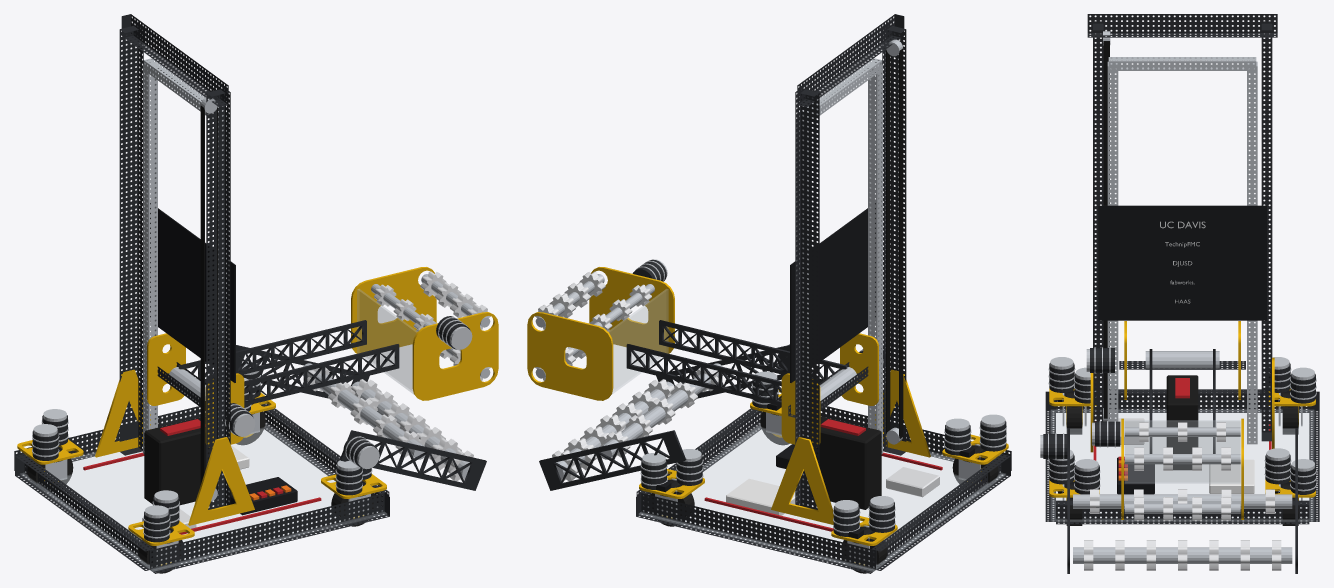
3 renders of one model, left to right at view 1: azimuth 30°, elevation 25°; view 2: azimuth 150°, elevation 25°; view 3: azimuth 270°, elevation 25°, orthographic. The views are drawn at different scales.
Visible parts, largest first — view 1: body.dark_tube, body.polycarb, grab.yellow_anodized, body.black, body.yellow_anodized, stage.aluminum_tube, boom.dark_frame, body.dark_frame, body.battery, body.white_wheel, body.aluminum, body.kraken (+9 smaller); view 2: body.dark_tube, body.polycarb, grab.yellow_anodized, body.black, stage.aluminum_tube, body.yellow_anodized, boom.dark_frame, body.battery, body.dark_frame, body.belt, body.kraken, body.aluminum (+12 smaller); view 3: body.black, body.dark_tube, body.polycarb, stage.aluminum_tube, body.aluminum, body.kraken, grab.polycarb, body.kraken_cap, body.white_wheel, grab.aluminum, grab.white_wheel, body.battery (+14 smaller).
Boxes of the visible parts, box(x1,y1,x2,y2) form: body.dark_tube: box(14, 14, 389, 573); body.polycarb: box(20, 425, 386, 571); grab.yellow_anodized: box(351, 267, 498, 400); body.black: box(54, 203, 365, 543); body.yellow_anodized: box(17, 369, 386, 565); stage.aluminum_tube: box(143, 58, 229, 505); boom.dark_frame: box(178, 320, 399, 405); body.dark_frame: box(236, 345, 486, 490); body.battery: box(144, 416, 209, 505); body.white_wheel: box(307, 367, 473, 481); body.aluminum: box(45, 97, 469, 565); body.kraken: box(32, 370, 377, 542); body.dark_tube: box(636, 14, 1011, 573); body.polycarb: box(639, 425, 1005, 571); grab.yellow_anodized: box(527, 267, 674, 400); body.black: box(656, 203, 986, 543); stage.aluminum_tube: box(796, 58, 882, 505); body.yellow_anodized: box(639, 369, 1008, 565); boom.dark_frame: box(626, 320, 847, 405); body.battery: box(812, 416, 881, 509); body.dark_frame: box(539, 345, 789, 490); body.belt: box(886, 48, 903, 438); body.kraken: box(641, 354, 1006, 536); body.aluminum: box(555, 39, 980, 565); body.black: box(1057, 205, 1297, 498); body.dark_tube: box(1045, 14, 1319, 524); body.polycarb: box(1051, 410, 1313, 521); stage.aluminum_tube: box(1107, 57, 1257, 444); body.aluminum: box(1062, 30, 1302, 563); body.kraken: box(1043, 363, 1315, 494); grab.polycarb: box(1125, 420, 1240, 483); body.kraken_cap: box(1040, 357, 1316, 491); body.white_wheel: box(1084, 489, 1281, 570); grab.aluminum: box(1124, 427, 1240, 513); grab.white_wheel: box(1134, 422, 1230, 520); body.battery: box(1166, 375, 1198, 470).
Size of the model in its own units: 1.05 by 1.19 by 0.6731.
17 materials, 2 textured.
